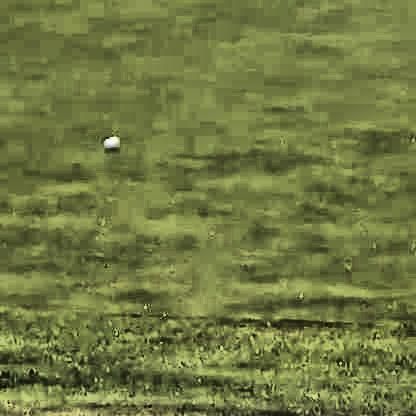golfball: (98, 132, 118, 150)
